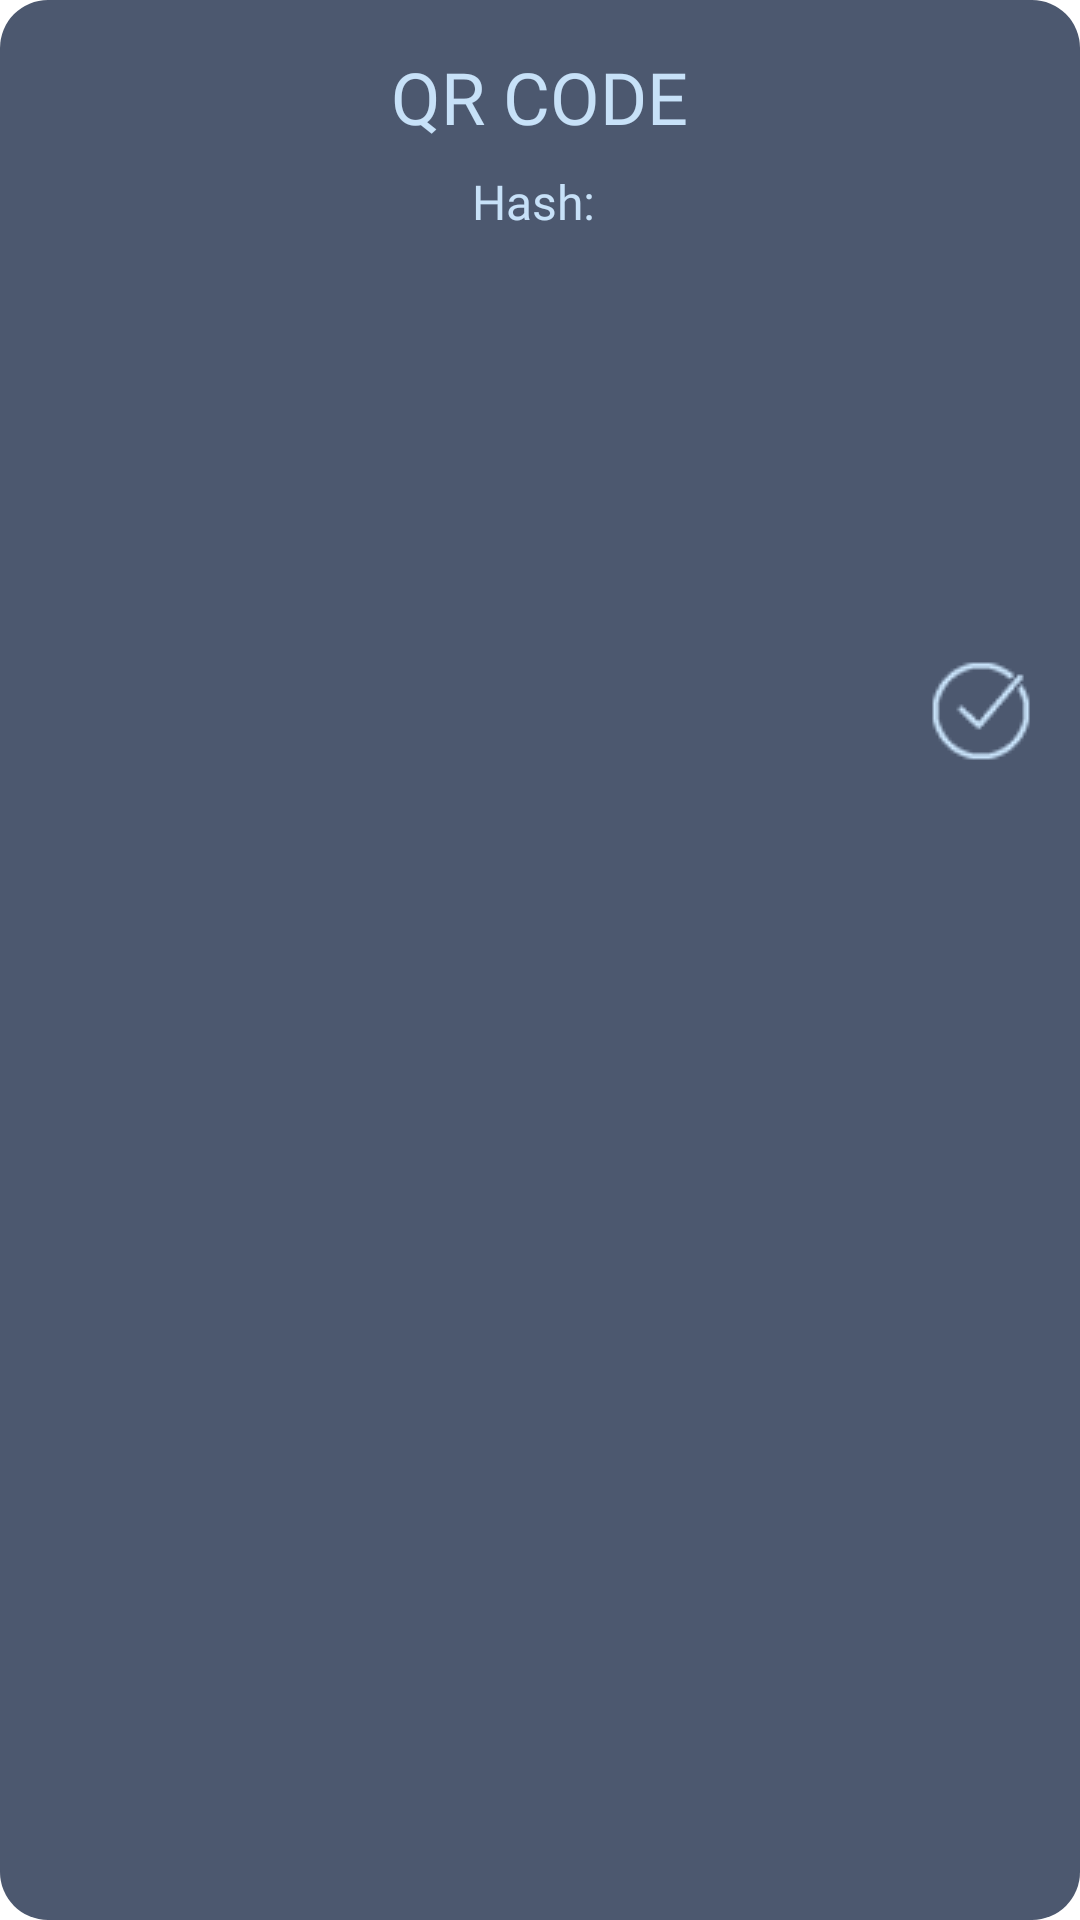

Icon click points for this 1080px x 1920px phone screenshot, format [x,y]:
confirm: [981,711]
